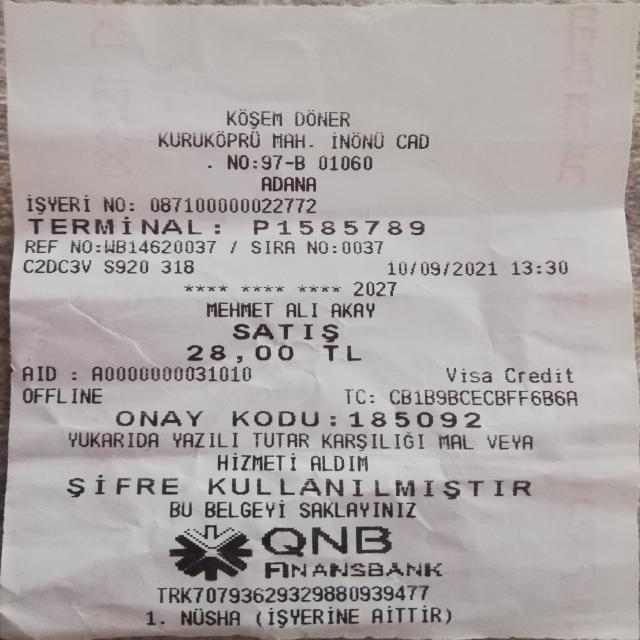text: (209, 473, 531, 503), (156, 586, 429, 604), (389, 386, 577, 408), (260, 526, 392, 556), (253, 215, 424, 238), (150, 195, 315, 217), (27, 216, 201, 236), (264, 560, 442, 578), (92, 363, 250, 382), (66, 472, 177, 499), (348, 408, 480, 429), (300, 498, 416, 518), (233, 321, 337, 343), (322, 430, 424, 452), (159, 128, 259, 150), (386, 258, 496, 278), (186, 343, 292, 363), (68, 427, 158, 450), (268, 606, 359, 627), (115, 407, 201, 429), (105, 238, 216, 255), (232, 408, 318, 429), (218, 450, 296, 473), (204, 499, 284, 518), (372, 605, 441, 627), (173, 428, 237, 451), (180, 606, 242, 629), (22, 386, 101, 404), (27, 193, 91, 214), (206, 300, 272, 320), (253, 428, 307, 452), (311, 451, 367, 474), (504, 366, 574, 384), (226, 107, 282, 128), (294, 107, 349, 128), (511, 257, 567, 277), (331, 130, 383, 150), (486, 431, 533, 453), (23, 258, 90, 273), (318, 153, 372, 171), (258, 175, 317, 191), (331, 300, 373, 320), (322, 342, 361, 363), (353, 279, 396, 298), (446, 365, 491, 383), (438, 430, 473, 452), (100, 258, 148, 274), (251, 239, 295, 255), (395, 130, 428, 151), (22, 363, 56, 382), (342, 239, 382, 255), (272, 129, 302, 150), (103, 190, 128, 214), (286, 300, 316, 320), (24, 238, 58, 254), (161, 258, 193, 274), (344, 385, 365, 408), (224, 153, 250, 170), (145, 607, 165, 629), (169, 499, 192, 518), (261, 152, 281, 170), (70, 238, 91, 254), (308, 239, 328, 255), (255, 606, 265, 629), (294, 153, 304, 171), (127, 190, 134, 214), (444, 605, 450, 627), (285, 153, 292, 171), (369, 385, 374, 408), (330, 408, 335, 429), (231, 239, 236, 254), (332, 239, 336, 255), (96, 239, 100, 254), (72, 363, 75, 382), (253, 152, 256, 170)
